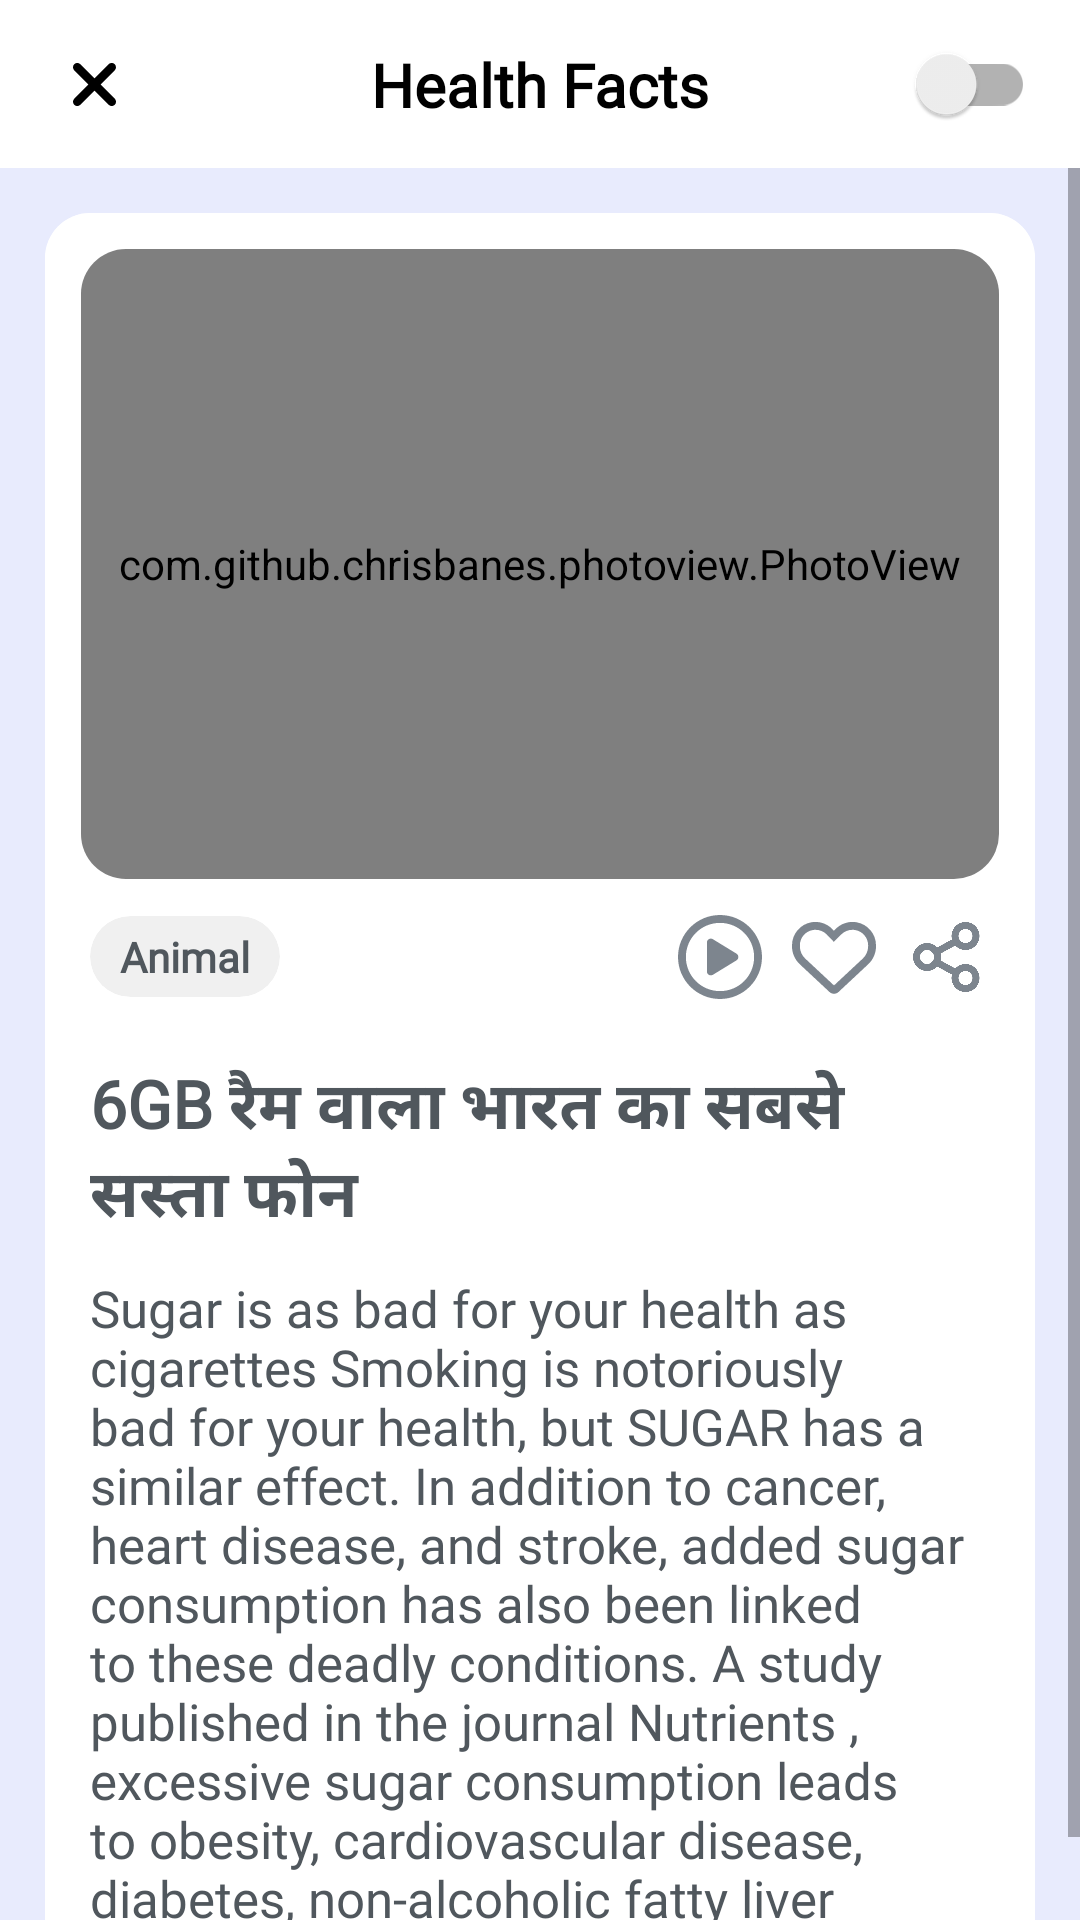

Icon bounding boxes for this 1080*1920 phone screenshot, format {"x1": x1, "y1": y1, "x2": x2, "y2": y2}:
like: {"x1": 792, "y1": 922, "x2": 876, "y2": 994}
play: {"x1": 678, "y1": 915, "x2": 762, "y2": 999}
share: {"x1": 913, "y1": 922, "x2": 980, "y2": 992}
